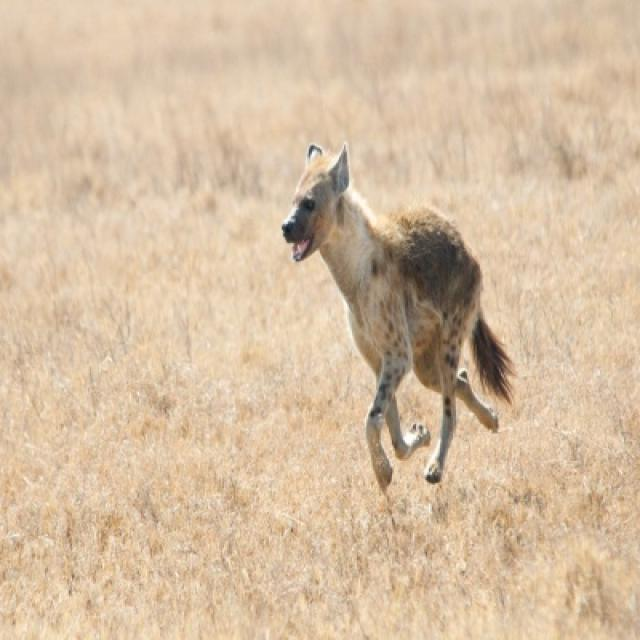hyena: (280, 146, 517, 496)
